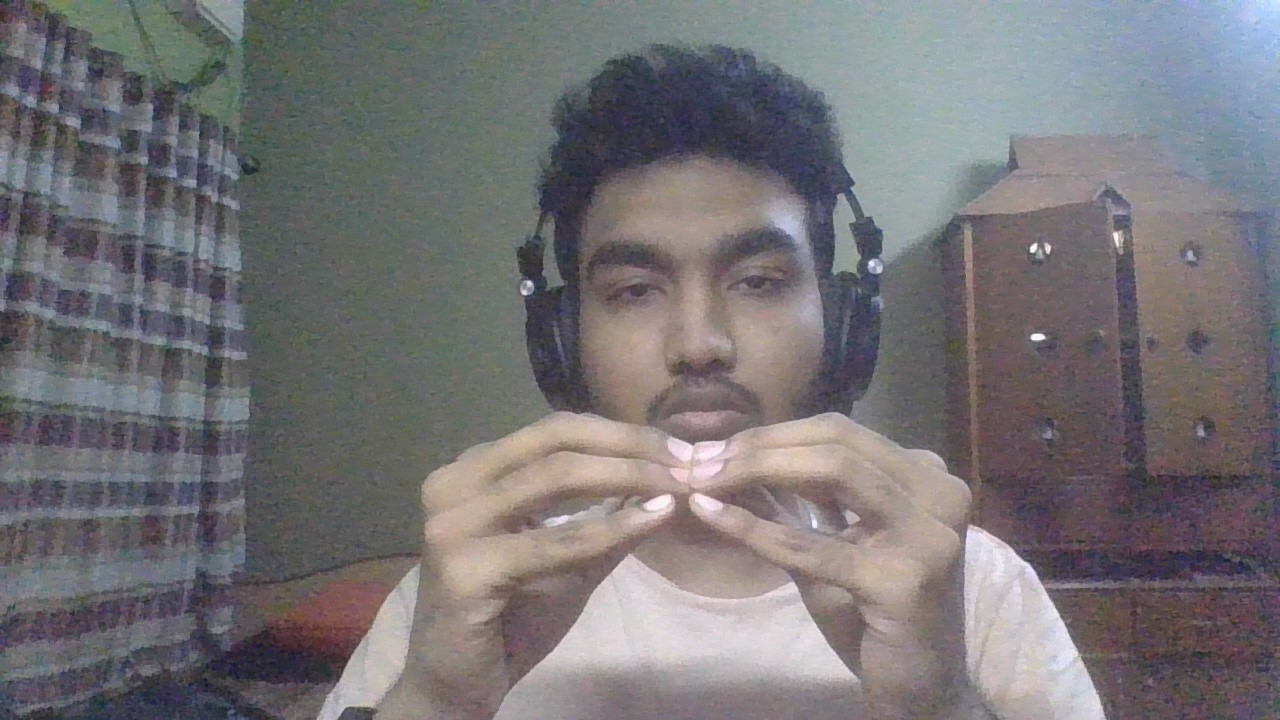More: (391, 407, 998, 719)
